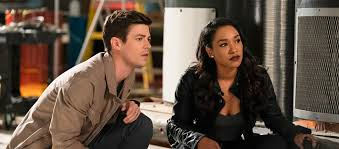Caution: (39, 9, 290, 148)
